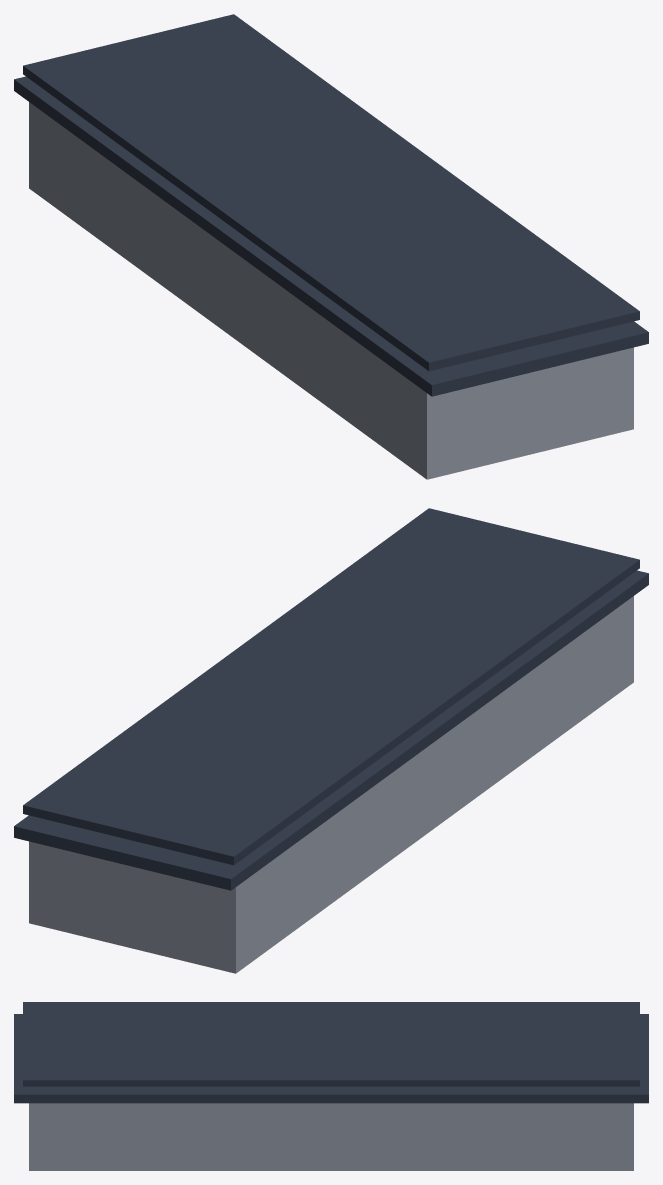
File: grandstandF.glb
3 views of the same model, one above another, from view 1: azimuth 30°, elevation 25°; view 2: azimuth 150°, elevation 25°; view 3: azimuth 270°, elevation 25° (orthographic). The views are drawn at different scales.
Visible parts, largest first — view 1: grandstandF; view 2: grandstandF; view 3: grandstandF.
Part boxes in pixels (x1,y1,x2,y2): grandstandF: [14, 14, 648, 479]; grandstandF: [14, 508, 648, 973]; grandstandF: [14, 1002, 648, 1170].
Size of the model in its own units: 4.72 by 2.51 by 15.75.
